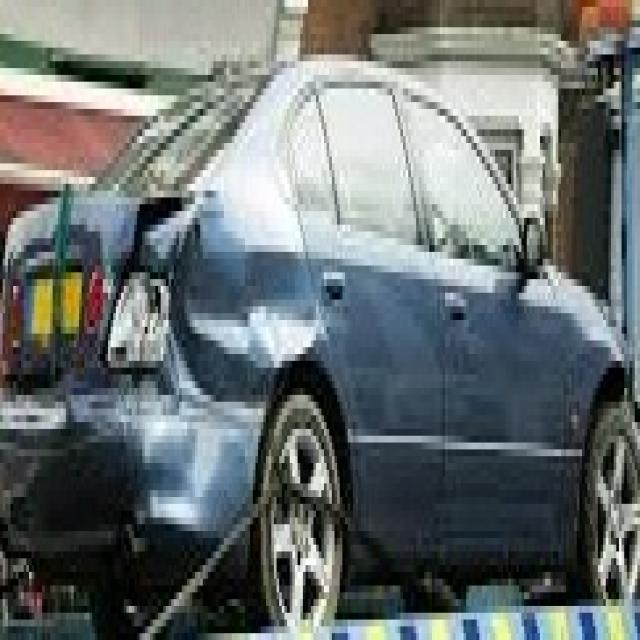moderate: (19, 156, 297, 640)
